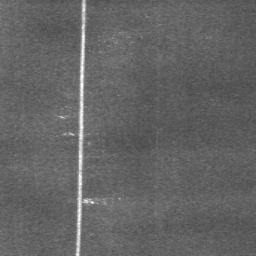Bright scratch: (75, 0, 85, 256)
